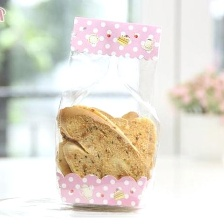snack: (46, 11, 171, 216)
